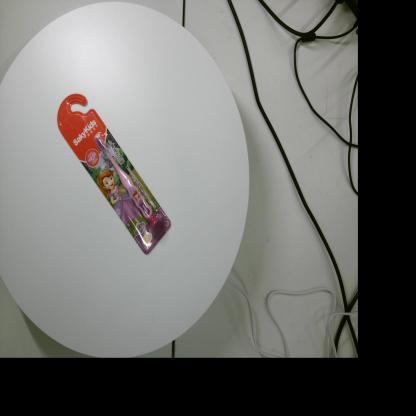Personal Hygiene: (57, 94, 171, 255)
